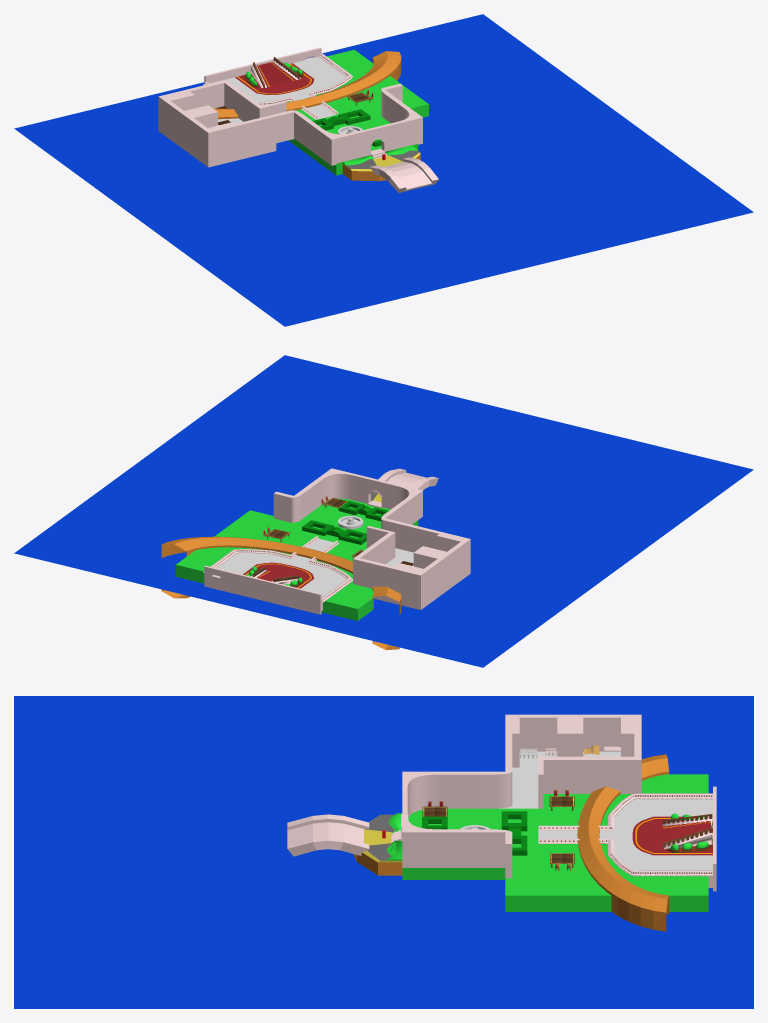
Rendered from Castle.fbx.
3 views of the same model, one above another, from view 1: azimuth 30°, elevation 25°; view 2: azimuth 150°, elevation 25°; view 3: azimuth 270°, elevation 25° (orthographic). The views are drawn at different scales.
Visible parts, largest first — view 1: Water, CastleWal.002, Ground.001, Floor.001, CastleWal, Torus, CastleWal.003, Garden, Bridge, CastleWal.001, Grass, Stairs.002 (+1 smaller); view 2: Water, CastleWal.002, Ground.001, Torus, Garden, Wall, Floor.001, CastleWal.001, CastleWal.003, CastleWal, Bridge; view 3: Water, CastleWal.002, Ground.001, Torus, Floor.001, Garden, CastleWal.001, CastleWal.003, Bridge, Grass, Stairs.002, RailingTex.003 (+2 smaller).
Boxes of the visible parts, left/top/right/bottom form: Water: left=14, top=14, right=753, bottom=326; CastleWal.002: left=158, top=80, right=294, bottom=167; Ground.001: left=286, top=49, right=428, bottom=120; Floor.001: left=210, top=57, right=346, bottom=102; CastleWal: left=334, top=117, right=418, bottom=163; Torus: left=213, top=51, right=401, bottom=119; CastleWal.003: left=274, top=110, right=353, bottom=165; Garden: left=288, top=107, right=418, bottom=175; Bridge: left=370, top=157, right=438, bottom=192; CastleWal.001: left=381, top=84, right=422, bottom=144; Grass: left=342, top=150, right=420, bottom=181; Stairs.002: left=250, top=57, right=300, bottom=87; Water: left=14, top=355, right=753, bottom=667; CastleWal.002: left=353, top=522, right=470, bottom=609; Ground.001: left=175, top=510, right=373, bottom=620; Torus: left=161, top=536, right=401, bottom=650; Garden: left=286, top=498, right=418, bottom=549; Wall: left=204, top=565, right=321, bottom=614; Floor.001: left=213, top=553, right=346, bottom=610; CastleWal.001: left=273, top=468, right=355, bottom=522; CastleWal.003: left=381, top=485, right=422, bottom=548; CastleWal: left=337, top=469, right=417, bottom=509; Bridge: left=372, top=468, right=438, bottom=493; Water: left=14, top=696, right=753, bottom=1008; CastleWal.002: left=498, top=714, right=641, bottom=808; Ground.001: left=505, top=774, right=708, bottom=911; Torus: left=577, top=754, right=669, bottom=931; Floor.001: left=611, top=799, right=712, bottom=887; Garden: left=402, top=808, right=538, bottom=879; CastleWal.001: left=402, top=818, right=512, bottom=878; CastleWal.003: left=402, top=760, right=512, bottom=816; Bridge: left=287, top=814, right=369, bottom=856; Grass: left=353, top=814, right=402, bottom=875; Stairs.002: left=662, top=814, right=712, bottom=849; RailingTex.003: left=608, top=838, right=712, bottom=876.
Bounding box in the file's own units: 40720 × 6123 × 40720.
